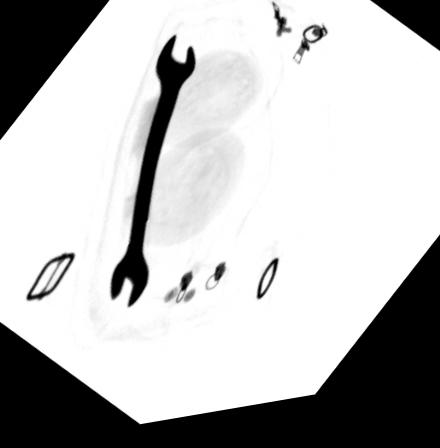Wrench: (107, 38, 197, 313)
